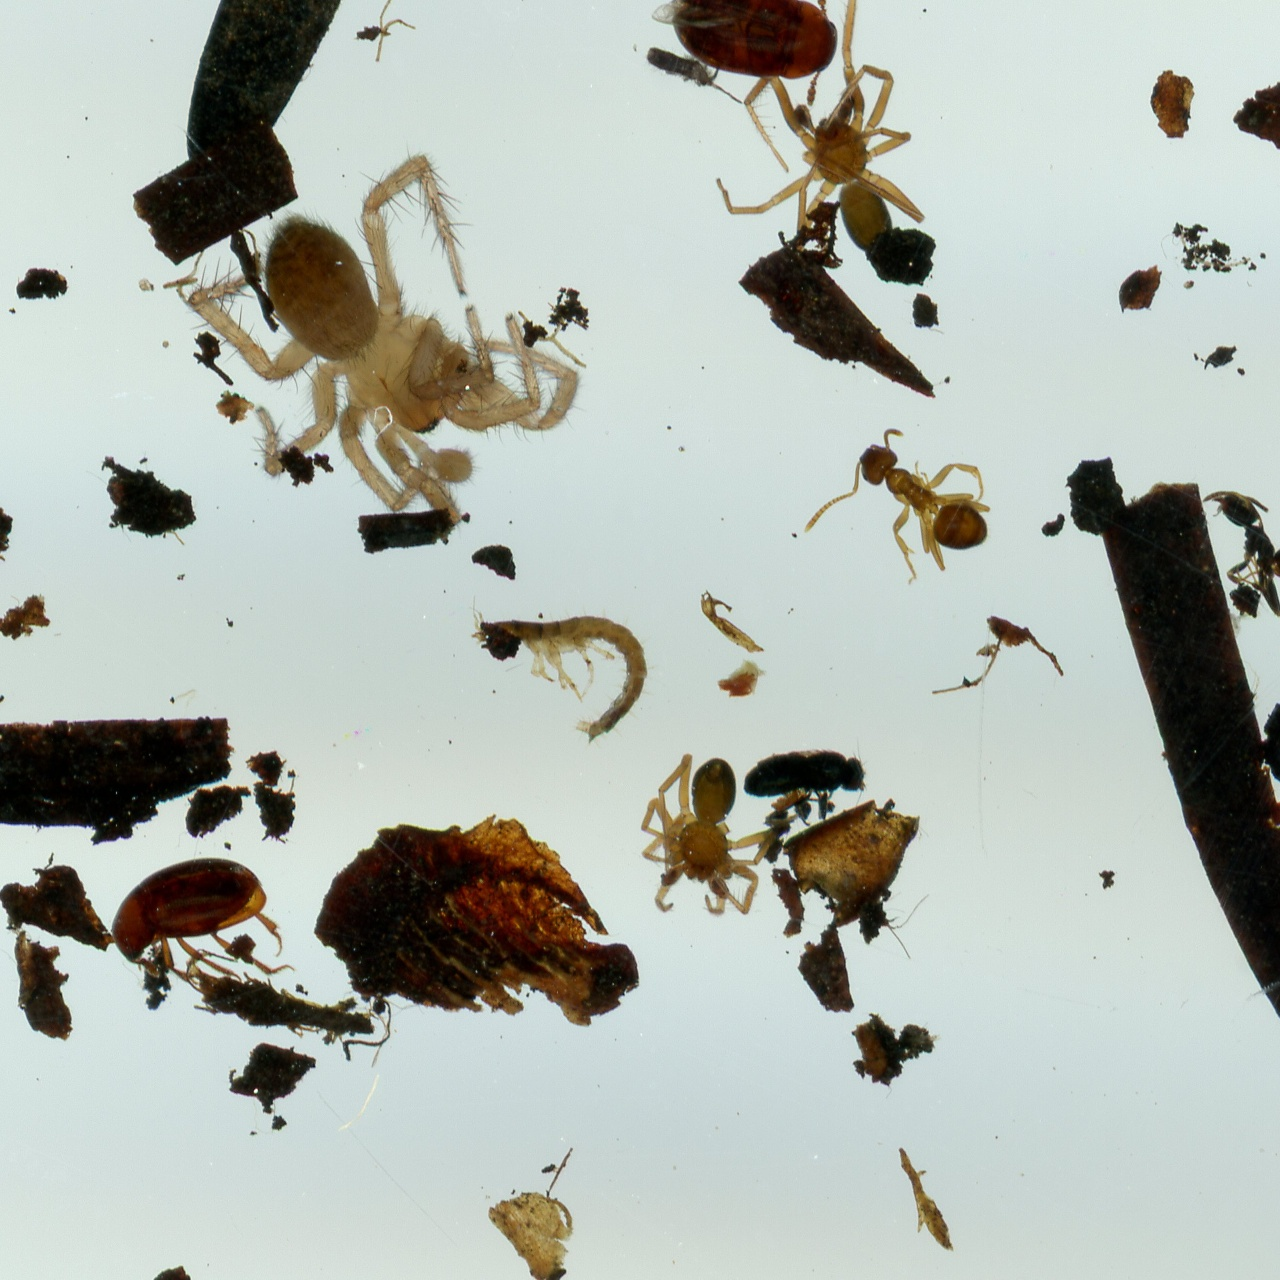arthropod: (177, 148, 583, 527), (720, 0, 950, 250), (802, 423, 992, 588), (460, 597, 657, 746), (110, 854, 294, 985), (640, 751, 772, 921), (655, 0, 841, 88), (1209, 488, 1280, 619), (743, 749, 873, 808), (639, 42, 741, 109)
